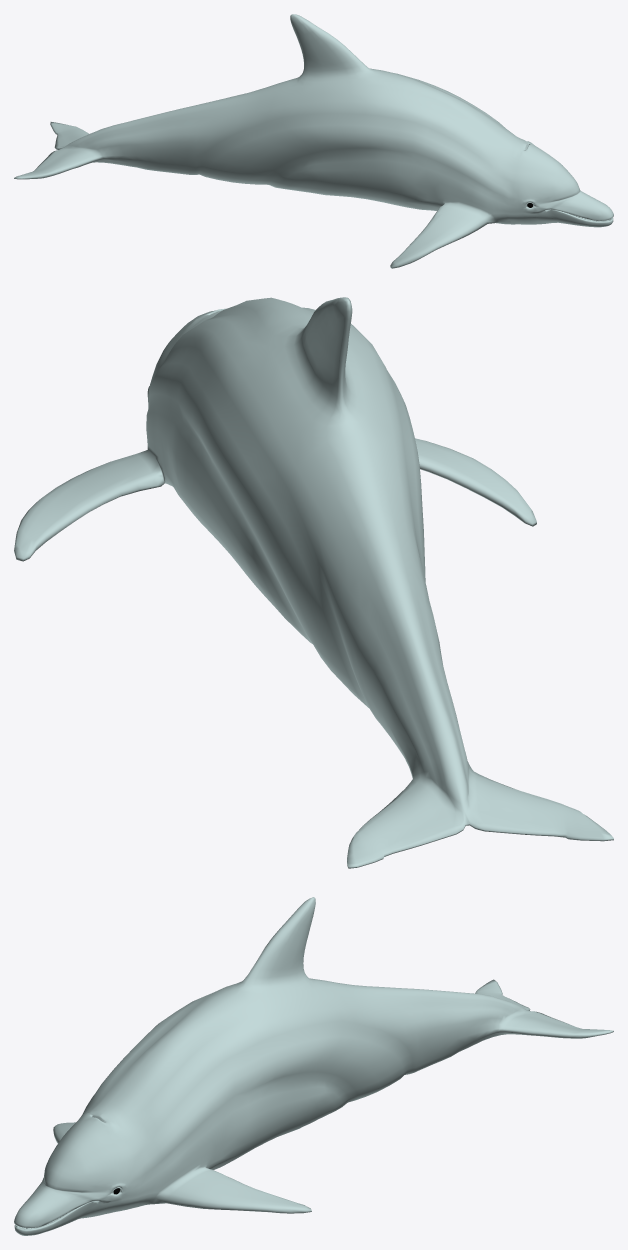
Rendered from dolphin_000019.obj.
The picture shows the model from 3 angles, top to bottom: view 1: azimuth 30°, elevation 25°; view 2: azimuth 150°, elevation 25°; view 3: azimuth 270°, elevation 25°; orthographic projection. The views are drawn at different scales.
Visible parts, largest first — view 1: Dolphin; view 2: Dolphin; view 3: Dolphin.
Boxes of the visible parts, box(x1,y1,x2,y2) form: Dolphin: box(14, 14, 613, 268); Dolphin: box(14, 297, 613, 868); Dolphin: box(14, 897, 613, 1235).
Bounding box in the file's own units: 5.52 × 2.36 × 5.6.
